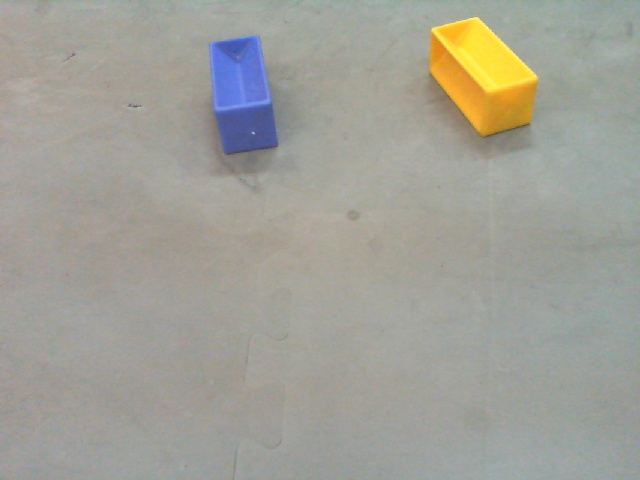BlueSample: (206, 36, 279, 156)
YellowSample: (427, 17, 538, 142)
